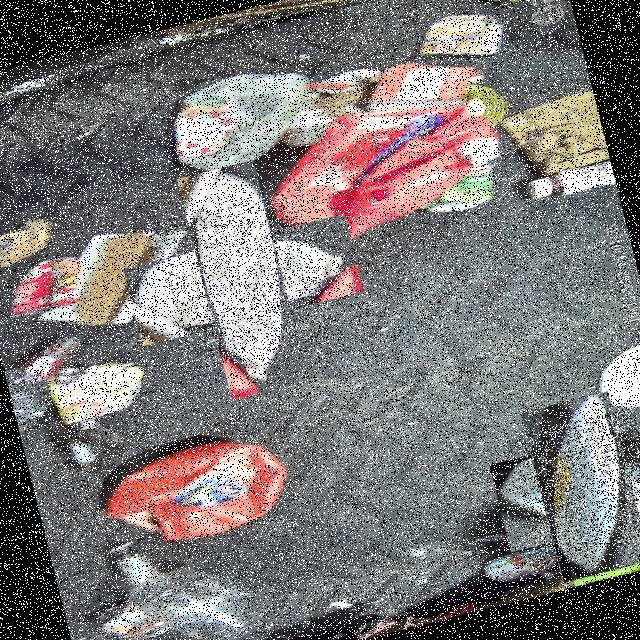milk-jug: (148, 186, 336, 373), (504, 406, 640, 567)
